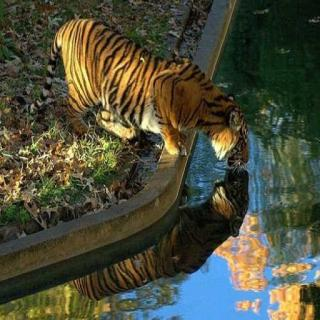Tiger: (47, 7, 256, 180)
